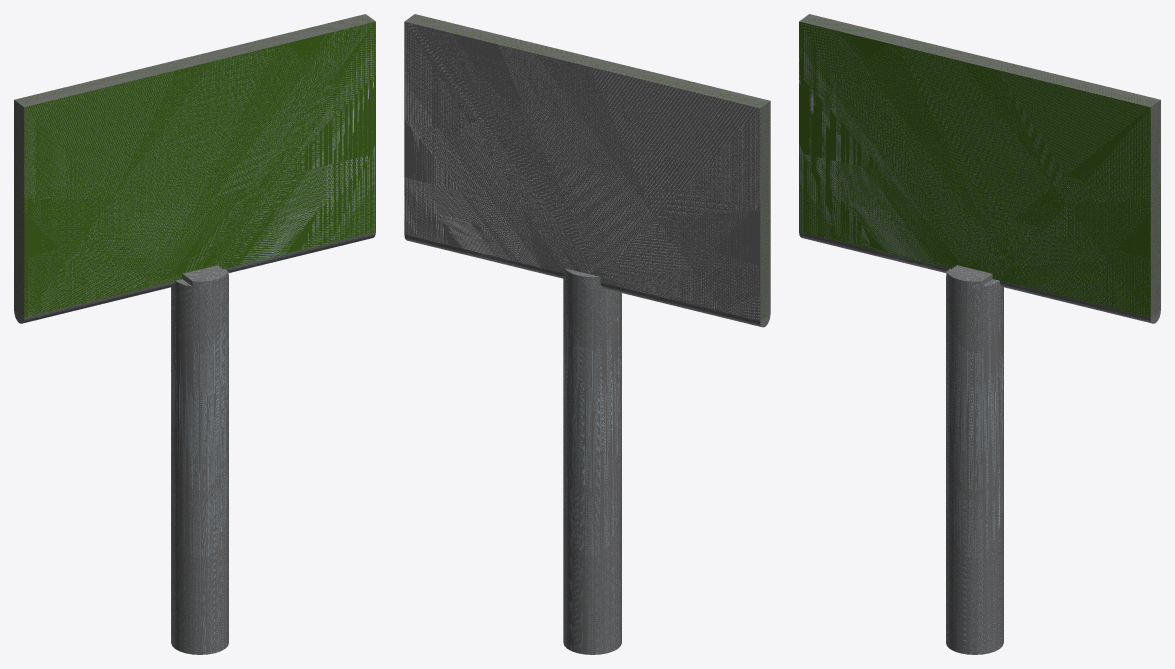
File: pencarte_dae.dae
The picture shows the model from 3 angles, left to right: view 1: azimuth 30°, elevation 25°; view 2: azimuth 150°, elevation 25°; view 3: azimuth 330°, elevation 25°; orthographic projection.
Visible parts, largest first — view 1: SketchUp (×3); view 2: SketchUp (×3); view 3: SketchUp (×3).
Boxes of the visible parts, x1,y1,x2,y2 form: SketchUp (×3): (14, 14, 375, 654); SketchUp (×3): (404, 14, 770, 654); SketchUp (×3): (799, 14, 1160, 654).
Size of the model in its own units: 27.55 by 3.94 by 43.31.
